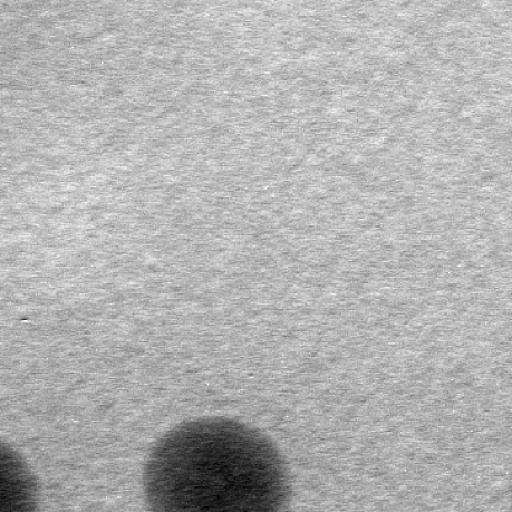Nanoparticles: (139, 412, 297, 512), (0, 439, 41, 512)
